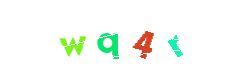4: (89, 0, 169, 80)
Q: (80, 0, 160, 80)
R: (104, 0, 184, 80)
W: (33, 0, 113, 80)
